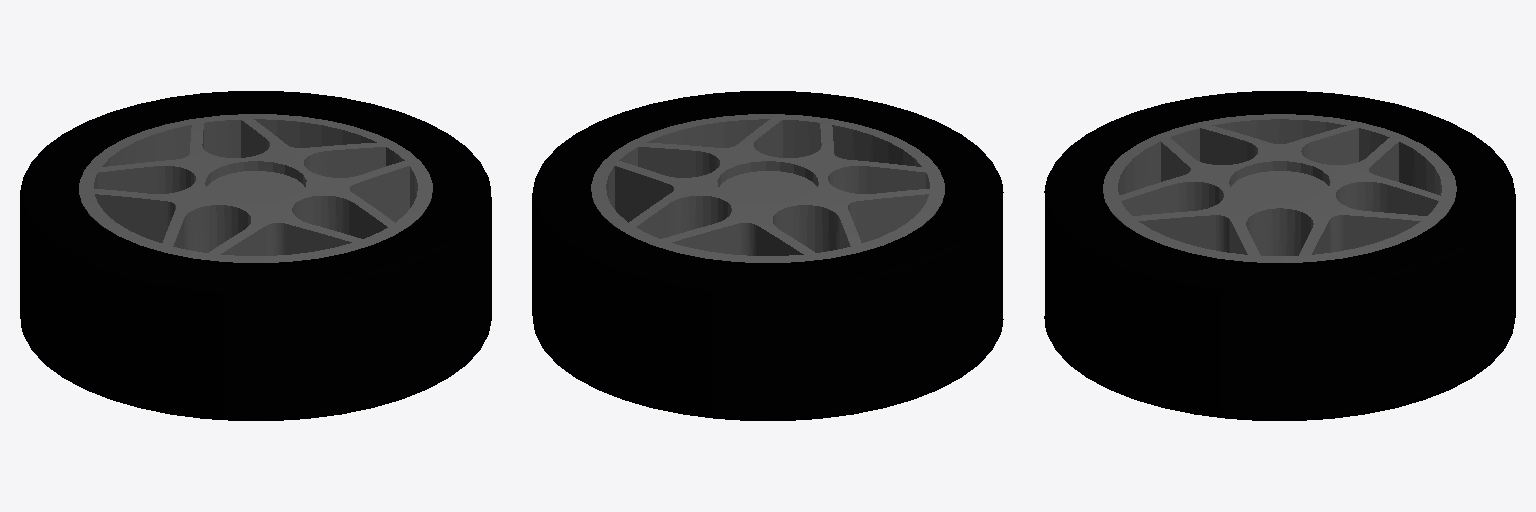
robot.urdf — roboworks:
<?xml version="1.0"?>
<robot name="roboworks">

  <!-- Base Link -->
  <link name="base_link">
    <inertial>
      <mass value="100"/>
      <origin xyz="0 0 0" rpy="0 0 0"/>
      <inertia ixx="0.51286667" ixy="0" ixz="0" iyy="1.28568542" iyz="0" izz="1.71688542"/>
    </inertial>
  </link>

  <!-- Chassis -->
  <link name="chassis">
    <inertial>
      <mass value="100"/>
      <origin xyz="0 0 0" rpy="0 0 0"/>
      <inertia ixx="0.51286667" ixy="0" ixz="0" iyy="1.28568542" iyz="0" izz="1.71688542"/>
    </inertial>
    <visual>
      <origin xyz="0 0 0" rpy="1.5707 0 0"/>
      <geometry>
        <mesh filename="package://robotverseny_description/models/roboworks/meshes/chassis.dae"/>
      </geometry>
      <material name="">
        <color rgba="0.427451 0.470588 0.541176 1"/>
      </material>
    </visual>
    <collision>
      <origin xyz="0.17635 0 0" rpy="0 0 0"/>
      <geometry>
        <box size="0.3865 0.238 0.07"/>
      </geometry>
    </collision>
  </link>

  <!-- Front Left Wheel -->
  <link name="front_left_wheel">
    <inertial>
      <mass value="1"/>
      <origin xyz="0.3187 0.161 0" rpy="-1.5707 0 0"/>
      <inertia ixx="1.18520833" ixy="0" ixz="0" iyy="1.18520833" iyz="0" izz="0.78125"/>
    </inertial>
    <visual>
      <geometry>
        <mesh filename="package://robotverseny_description/models/roboworks/meshes/wheel.dae"/>
      </geometry>
      <material name="">
        <color rgba="0.4 0.4 0.4 1"/>
      </material>
    </visual>
    <collision>
      <geometry>
        <cylinder length="0.04" radius="0.0625"/>
      </geometry>
    </collision>
  </link>

  <!-- Front Left Tire -->
  <link name="front_left_tire">
    <visual>
      <geometry>
        <mesh filename="package://robotverseny_description/models/roboworks/meshes/tire.dae"/>
      </geometry>
      <material name="">
        <color rgba="0.01 0.01 0.01 1"/>
      </material>
    </visual>
  </link>

  <!-- Front Right Wheel -->
  <link name="front_right_wheel">
    <inertial>
      <mass value="1"/>
      <origin xyz="0.3187 -0.161 0" rpy="-1.5707 0 0"/>
      <inertia ixx="1.18520833" ixy="0" ixz="0" iyy="1.18520833" iyz="0" izz="0.78125"/>
    </inertial>
    <visual>
      <geometry>
        <mesh filename="package://robotverseny_description/models/roboworks/meshes/wheel.dae"/>
      </geometry>
      <material name="">
        <color rgba="0.4 0.4 0.4 1"/>
      </material>
    </visual>
    <collision>
      <geometry>
        <cylinder length="0.04" radius="0.0625"/>
      </geometry>
    </collision>
  </link>

  <!-- Front Right Tire -->
  <link name="front_right_tire">
    <visual>
      <geometry>
        <mesh filename="package://robotverseny_description/models/roboworks/meshes/tire.dae"/>
      </geometry>
      <material name="">
        <color rgba="0.01 0.01 0.01 1"/>
      </material>
    </visual>
  </link>

  <!-- Rear Left Wheel -->
  <link name="rear_left_wheel">
    <inertial>
      <mass value="1"/>
      <origin xyz="0 0.161 0" rpy="-1.5707 0 0"/>
      <inertia ixx="1.18520833" ixy="0" ixz="0" iyy="1.18520833" iyz="0" izz="0.78125"/>
    </inertial>
    <visual>
      <geometry>
        <mesh filename="package://robotverseny_description/models/roboworks/meshes/wheel.dae"/>
      </geometry>
      <material name="">
        <color rgba="0.4 0.4 0.4 1"/>
      </material>
    </visual>
    <collision>
      <geometry>
        <cylinder length="0.04" radius="0.0625"/>
      </geometry>
    </collision>
  </link>

  <!-- Rear Left Tire -->
  <link name="rear_left_tire">
    <visual>
      <geometry>
        <mesh filename="package://robotverseny_description/models/roboworks/meshes/tire.dae"/>
      </geometry>
      <material name="">
        <color rgba="0.01 0.01 0.01 1"/>
      </material>
    </visual>
  </link>

  <!-- Rear Right Wheel -->
  <link name="rear_right_wheel">
    <inertial>
      <mass value="1"/>
      <origin xyz="0 -0.161 0" rpy="-1.5707 0 0"/>
      <inertia ixx="1.18520833" ixy="0" ixz="0" iyy="1.18520833" iyz="0" izz="0.78125"/>
    </inertial>
    <visual>
      <geometry>
        <mesh filename="package://robotverseny_description/models/roboworks/meshes/wheel.dae"/>
      </geometry>
      <material name="">
        <color rgba="0.4 0.4 0.4 1"/>
      </material>
    </visual>
    <collision>
      <geometry>
        <cylinder length="0.04" radius="0.0625"/>
      </geometry>
    </collision>
  </link>

  <!-- Rear Right Tire -->
  <link name="rear_right_tire">
    <visual>
      <geometry>
        <mesh filename="package://robotverseny_description/models/roboworks/meshes/tire.dae"/>
      </geometry>
      <material name="">
        <color rgba="0.01 0.01 0.01 1"/>
      </material>
    </visual>
  </link>

  <!-- Joints -->
  <joint name="base_to_chassis" type="fixed">
    <parent link="base_link"/>
    <child link="chassis"/>
  </joint>

  <joint name="front_left_wheel_joint" type="revolute">
    <parent link="base_link"/>
    <child link="front_left_wheel"/>
    <axis xyz="0 0 1"/>
  </joint>

  <joint name="rear_left_wheel_joint" type="revolute">
    <parent link="base_link"/>
    <child link="rear_left_wheel"/>
    <axis xyz="0 0 1"/>
  </joint>

  <joint name="front_right_wheel_joint" type="revolute">
    <parent link="base_link"/>
    <child link="front_right_wheel"/>
    <axis xyz="0 0 1"/>
  </joint>

  <joint name="rear_right_wheel_joint" type="revolute">
    <parent link="base_link"/>
    <child link="rear_right_wheel"/>
    <axis xyz="0 0 1"/>
  </joint>

  <joint name="front_left_tire_joint" type="fixed">
    <parent link="front_left_wheel"/>
    <child link="front_left_tire"/>
  </joint>

  <joint name="front_right_tire_joint" type="fixed">
    <parent link="front_right_wheel"/>
    <child link="front_right_tire"/>
  </joint>

  <joint name="rear_left_tire_joint" type="fixed">
    <parent link="rear_left_wheel"/>
    <child link="rear_left_tire"/>
  </joint>

  <joint name="rear_right_tire_joint" type="fixed">
    <parent link="rear_right_wheel"/>
    <child link="rear_right_tire"/>
  </joint>

</robot>

--- Facts derived from the render (not from the file) ---
3 views of the same robot in one strip: view 1: azimuth 30°, elevation 25°; view 2: azimuth 150°, elevation 25°; view 3: azimuth 270°, elevation 25° (orthographic).
Model roboworks with 10 links and 9 joints (4 revolute, 5 fixed), rooted at base_link, posed every joint at zero.
Links seen in each view (by area): view 1: front_left_tire, front_left_wheel; view 2: front_left_tire, front_left_wheel; view 3: front_left_tire, front_left_wheel.
Boxes of the visible links, bbox=[...] form: front_left_tire: bbox=[20, 91, 491, 420]; front_left_wheel: bbox=[79, 114, 432, 262]; front_left_tire: bbox=[532, 91, 1003, 420]; front_left_wheel: bbox=[591, 114, 944, 262]; front_left_tire: bbox=[1044, 91, 1515, 420]; front_left_wheel: bbox=[1103, 114, 1456, 262].
Bounding box of the posed robot: 0.1249 × 0.1249 × 0.0618 m (x, y, z).
8 mesh visuals loaded from 3 distinct referenced files (2 Collada DAE); not drawn: 1 (reference not matched to a file when rendering).